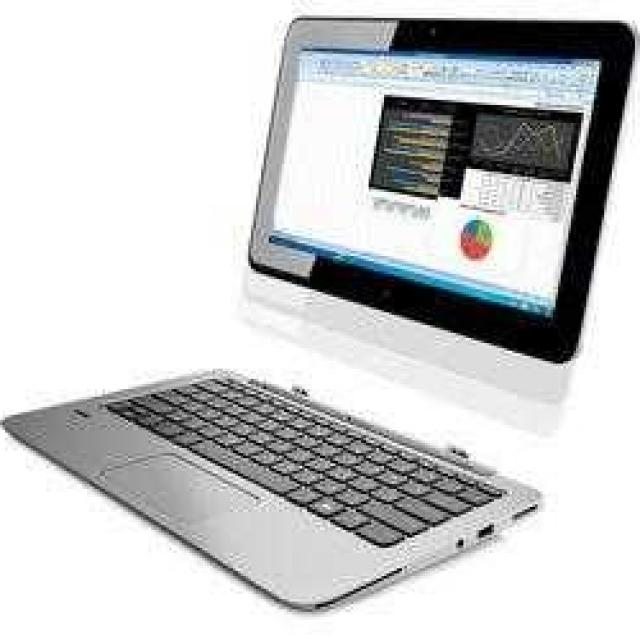laptop: (18, 26, 602, 554)
